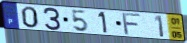0: (20, 6, 40, 29)
1: (154, 15, 166, 39), (97, 11, 109, 34)
3: (42, 6, 62, 32)
5: (71, 8, 90, 33)
F: (122, 12, 144, 36)
